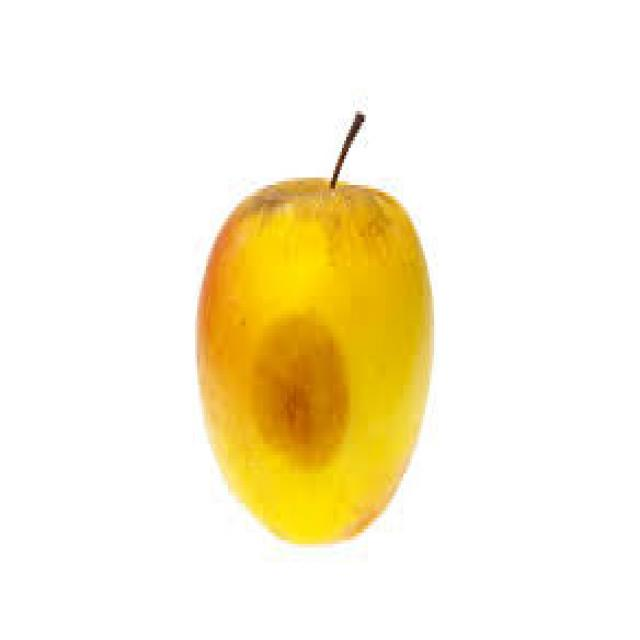Rotten: (191, 173, 436, 547)
